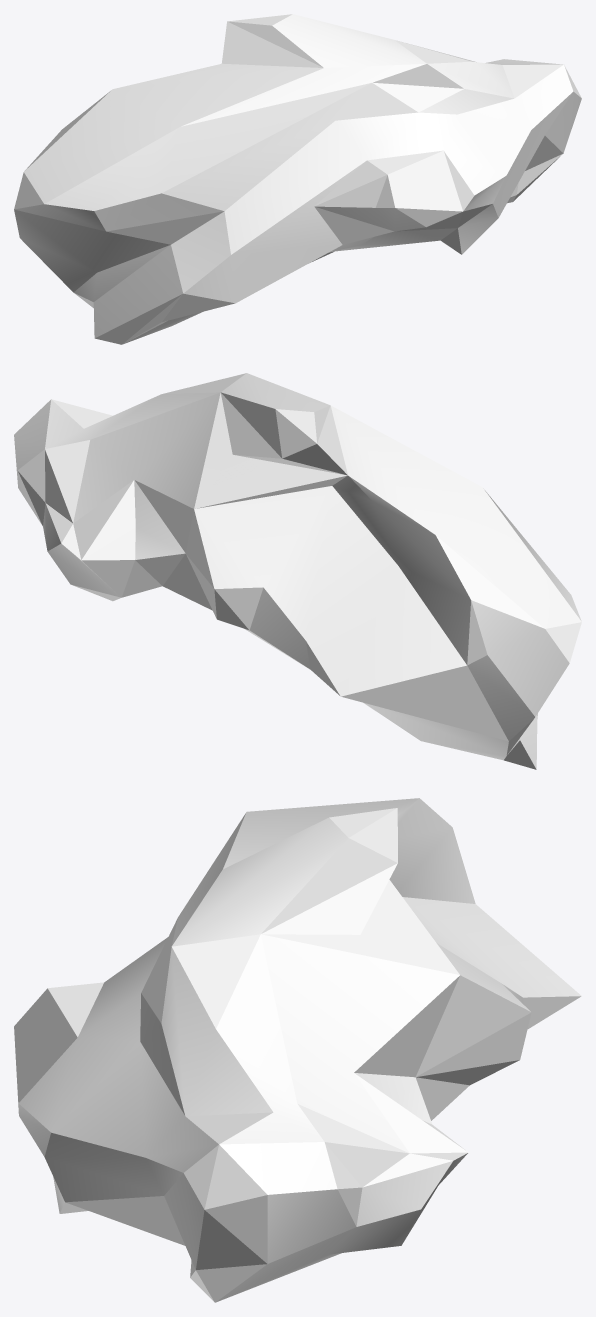
The model's file is ground.rock6.glb.
The picture shows the model from 3 angles, top to bottom: view 1: azimuth 30°, elevation 25°; view 2: azimuth 150°, elevation 25°; view 3: azimuth 270°, elevation 25°; orthographic projection. The views are drawn at different scales.
Visible parts, largest first — view 1: rock6; view 2: rock6; view 3: rock6.
Part boxes in pixels (bbox=[...]): rock6: bbox=[14, 14, 581, 344]; rock6: bbox=[14, 373, 581, 769]; rock6: bbox=[14, 798, 581, 1302].
Bounding box in the file's own units: 1.81 × 0.8951 × 1.08.
Materials: 1 (1 with a texture image).
